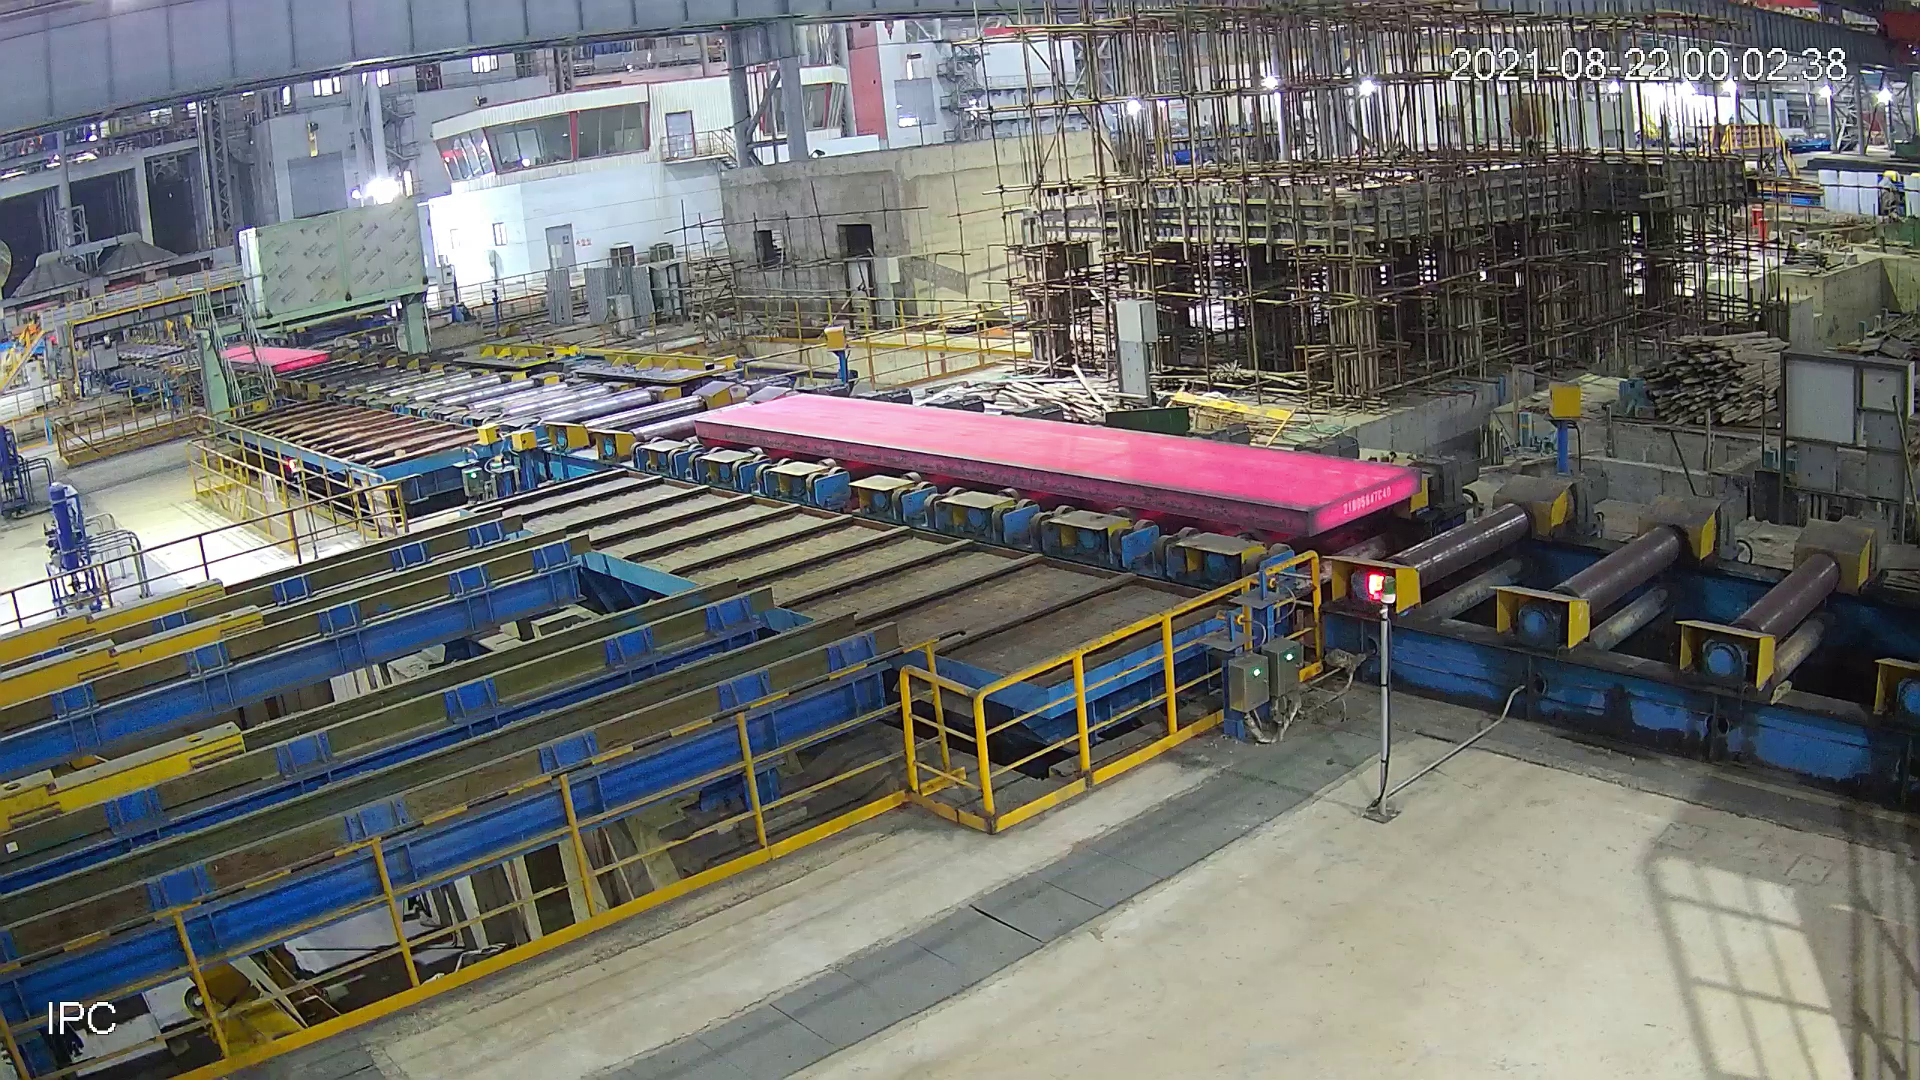slab: (692, 386, 1422, 539), (218, 338, 330, 378)
